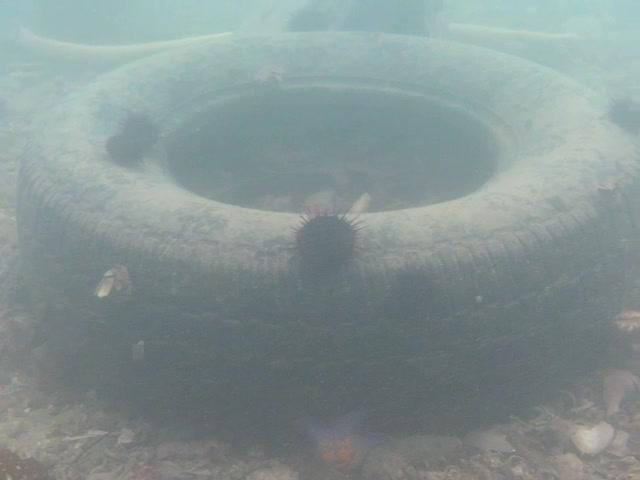tire: (12, 29, 640, 430)
